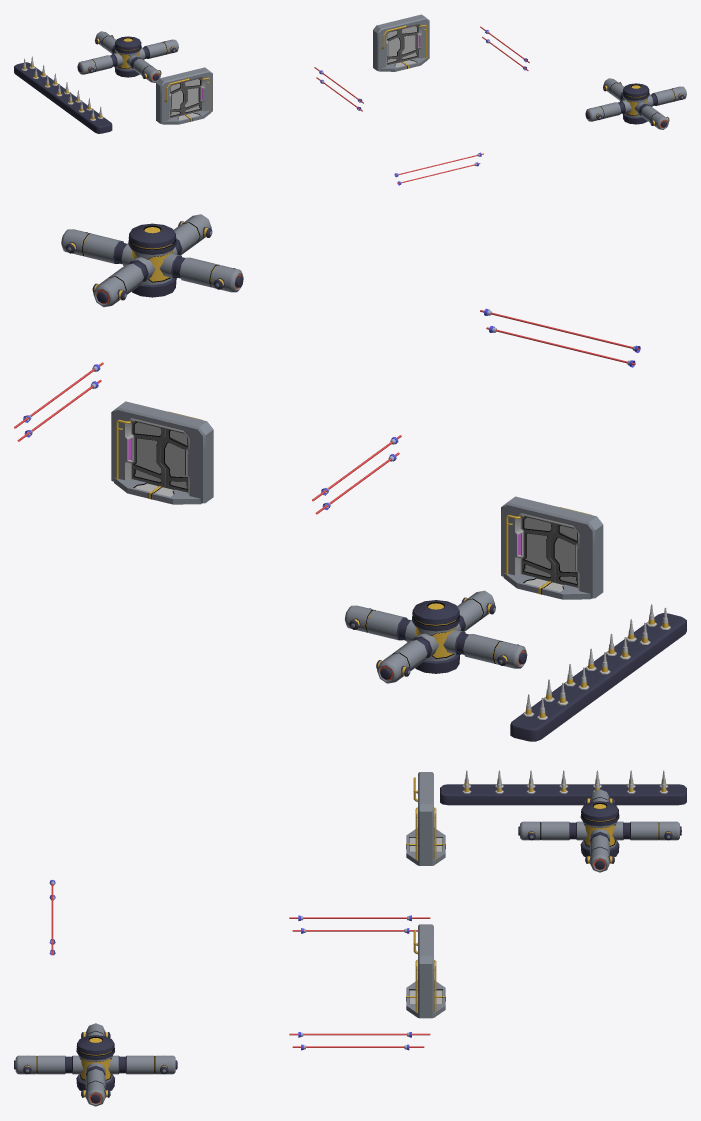
3 renders of one model, top to bottom at view 1: azimuth 30°, elevation 25°; view 2: azimuth 150°, elevation 25°; view 3: azimuth 270°, elevation 25°, orthographic. The views are drawn at different scales.
Visible parts, largest first — view 1: Base (×3), pCylinder14 (×8), pCylinder13 (×2), Right (×2), Left (×2), Base5 (×2); view 2: Base (×3), pCylinder14 (×8), pCylinder13 (×2), Right (×2), Left (×2), Base5 (×2); view 3: Base (×3), pCylinder14 (×6), pCylinder13 (×2), Base5 (×2).
Part boxes in pixels (box(x1,y1,x2,y2)): Base (×3): box(14, 14, 429, 133); pCylinder14 (×8): box(77, 31, 686, 129); pCylinder13 (×2): box(114, 36, 649, 124); Right (×2): box(182, 25, 418, 115); Left (×2): box(170, 29, 402, 117); Base5 (×2): box(162, 57, 428, 124); Base (×3): box(111, 401, 686, 741); pCylinder14 (×8): box(61, 214, 527, 683); pCylinder13 (×2): box(128, 223, 460, 673); Right (×2): box(132, 420, 555, 582); Left (×2): box(160, 428, 577, 587); Base5 (×2): box(114, 478, 591, 599); Base (×3): box(418, 772, 686, 1018); pCylinder14 (×6): box(14, 821, 681, 1106); pCylinder13 (×2): box(76, 801, 619, 1090); Base5 (×2): box(406, 828, 445, 1017).
Size of the model in its own units: 487 by 43.54 by 421.
